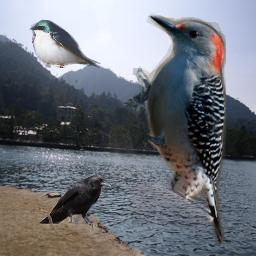Crow: (36, 174, 112, 231)
Swallow: (29, 19, 101, 68)
Woodpecker: (132, 10, 226, 245)
